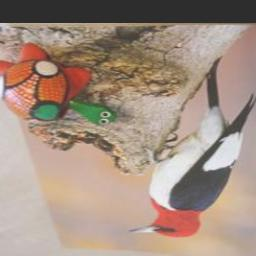Woodpecker: (130, 57, 256, 241)
